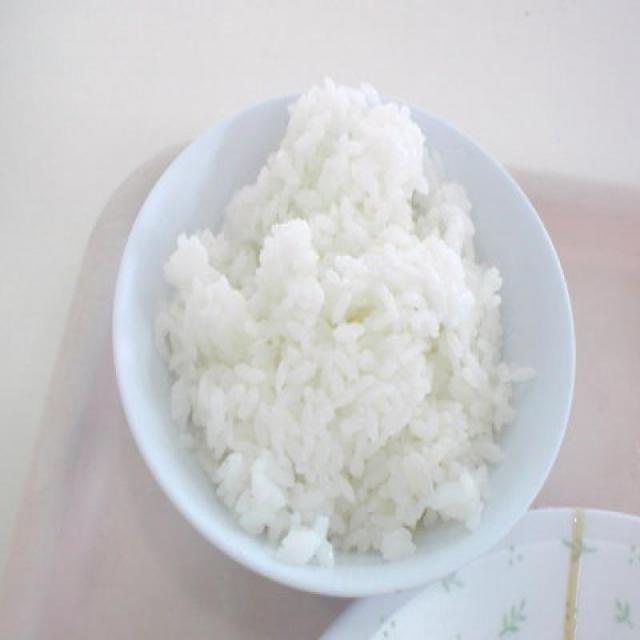rice: (153, 81, 512, 572)
